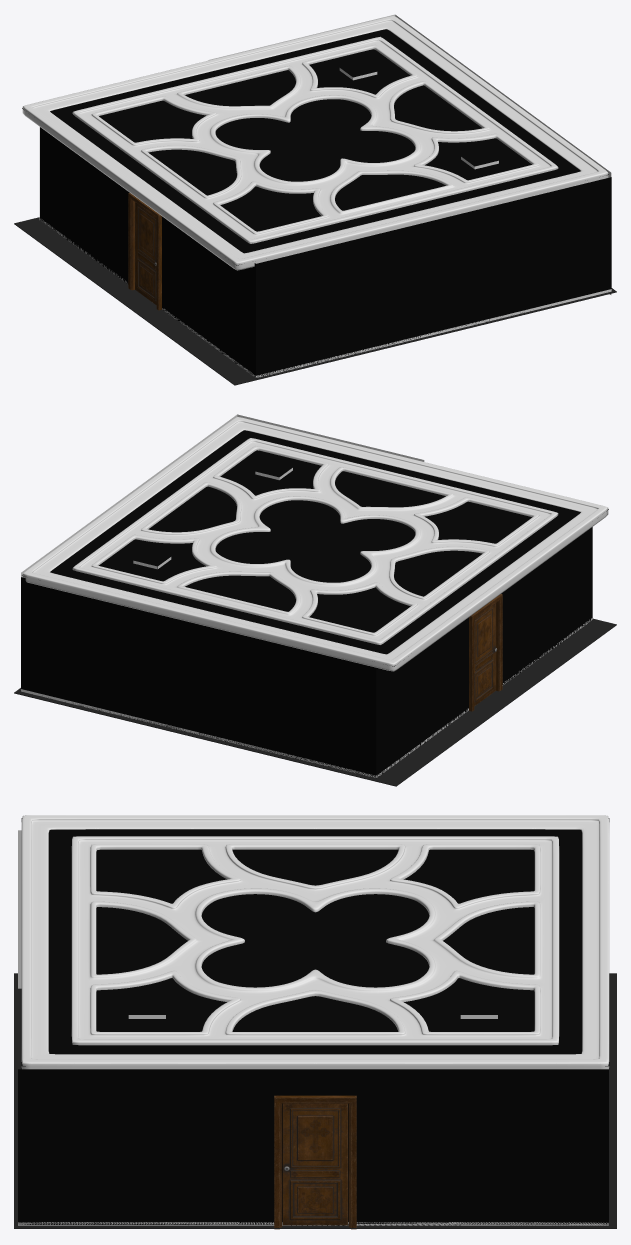
Rendered from frontwall3d.glb.
3 views of the same model, one above another, from view 1: azimuth 30°, elevation 25°; view 2: azimuth 150°, elevation 25°; view 3: azimuth 270°, elevation 25° (orthographic). The views are drawn at different scales.
Visible parts, largest first — view 1: wall, Square_Window_03, Plane, pCube1, _1_01_0.001, Baseboard, _2_02_0.001; view 2: wall, Square_Window_03, Plane, pCube1, _1_01_0.001, Baseboard, _2_02_0.001; view 3: wall, Square_Window_03, Plane, _1_01_0, pCube1, _2_02_0, Baseboard, Cube.
Part boxes in pixels (box(x1,y1,x2,y2)): wall: box(40, 127, 611, 378); Square_Window_03: box(22, 15, 608, 270); Plane: box(22, 29, 608, 265); pCube1: box(14, 217, 616, 385); _1_01_0.001: box(135, 202, 156, 305); Baseboard: box(40, 218, 611, 377); _2_02_0.001: box(128, 193, 161, 310); wall: box(21, 527, 592, 778); Square_Window_03: box(22, 416, 608, 671); Plane: box(22, 430, 608, 666); pCube1: box(14, 618, 616, 786); _1_01_0.001: box(474, 603, 496, 706); Baseboard: box(21, 618, 592, 777); _2_02_0.001: box(469, 594, 502, 711); wall: box(18, 1069, 608, 1225); Square_Window_03: box(21, 815, 609, 1069); Plane: box(21, 818, 609, 1066); _1_01_0: box(283, 1103, 347, 1225); pCube1: box(14, 973, 616, 1228); _2_02_0: box(274, 1095, 356, 1229); Baseboard: box(18, 1222, 608, 1225); Cube: box(128, 1000, 165, 1014).
Bounding box in the file's own units: 20.53 × 6.3 × 20.53.
Materials: 13 (4 with a texture image).
